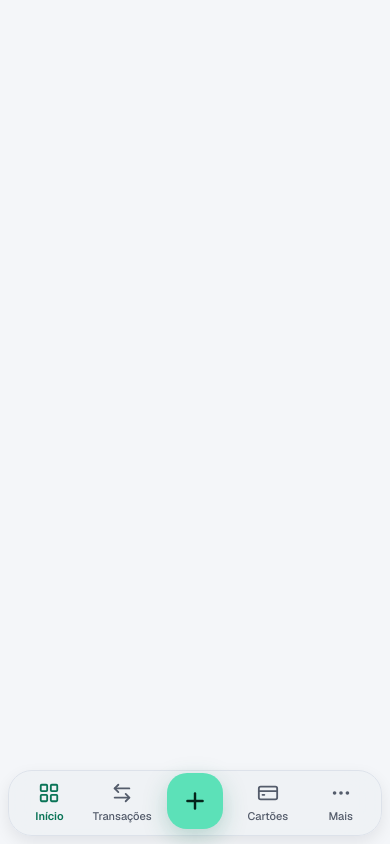
Test: BottomNav › lists the remaining sections in "Mais" and hides items without permission
Click the button "Mais". click: click(341, 803)
box: [304, 777, 377, 829]
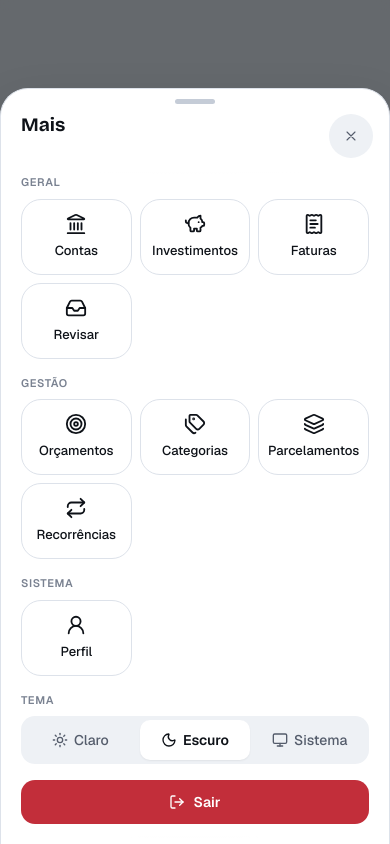
Expected: the link "Contas" is shown, [21, 198, 132, 274]
Expected: the link "Recorrências" is shown, [21, 483, 132, 559]
